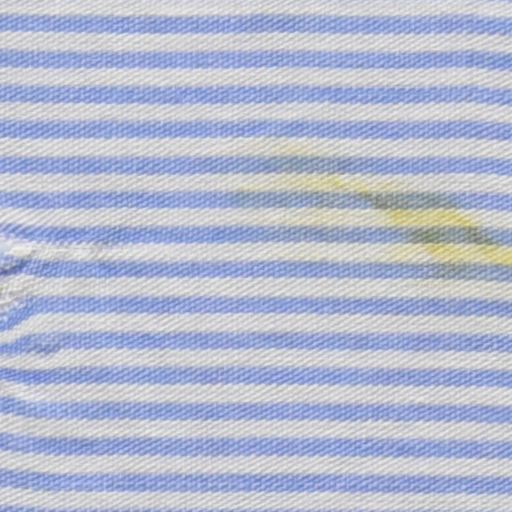defect: (270, 142, 512, 290), (1, 240, 33, 335)
